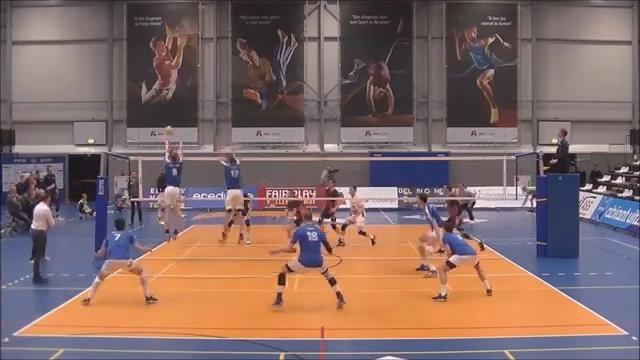Attack: (149, 157, 169, 228)
Block: (155, 132, 183, 244), (214, 148, 245, 247)
Player: (270, 209, 344, 308), (82, 217, 156, 304), (432, 221, 492, 300), (337, 186, 375, 245), (416, 193, 442, 276), (446, 198, 484, 250), (318, 180, 341, 235), (285, 193, 304, 237), (238, 192, 251, 244)
ball: (163, 123, 174, 133)
